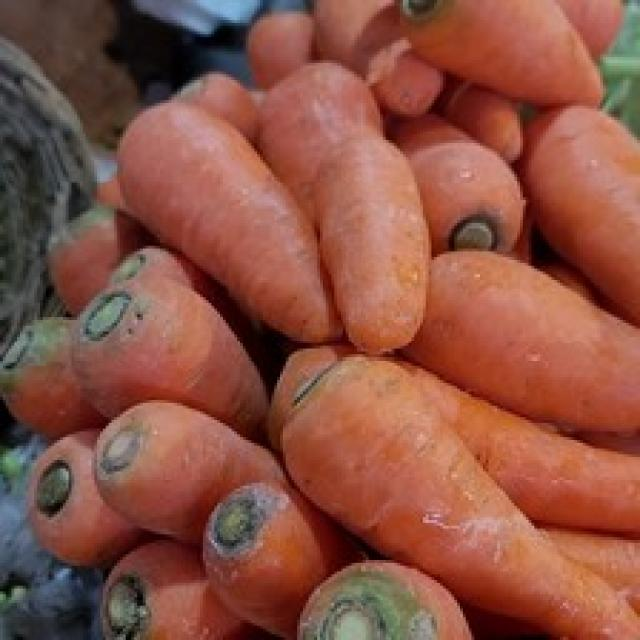Fresh_Carrot: (267, 86, 422, 327), (122, 120, 316, 291), (435, 266, 640, 419), (531, 125, 640, 279)
